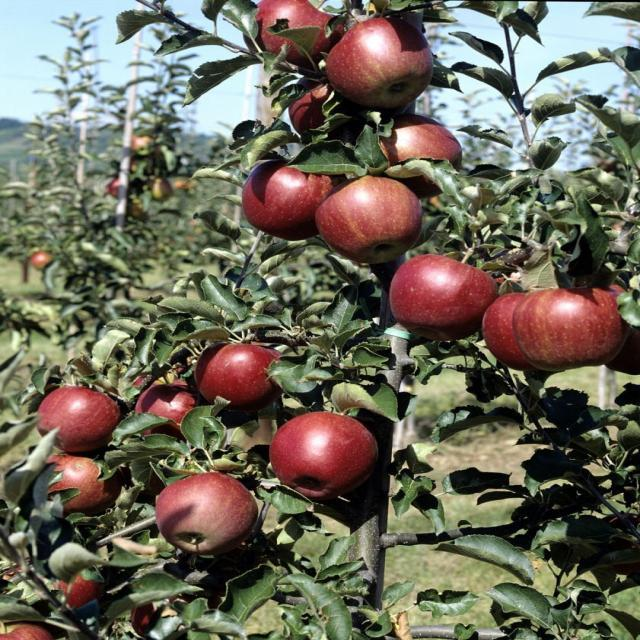Red Apple: (525, 283, 637, 369), (272, 411, 381, 497), (331, 18, 438, 101), (157, 472, 266, 552), (321, 170, 421, 255), (398, 249, 491, 325), (251, 158, 339, 238), (196, 342, 285, 414), (373, 116, 463, 186), (245, 1, 342, 62), (487, 285, 556, 365), (38, 383, 128, 444), (285, 76, 359, 139), (43, 451, 108, 511), (136, 381, 205, 430), (60, 568, 92, 614), (1, 620, 45, 640), (34, 247, 50, 273), (134, 135, 153, 153), (109, 178, 125, 195)
